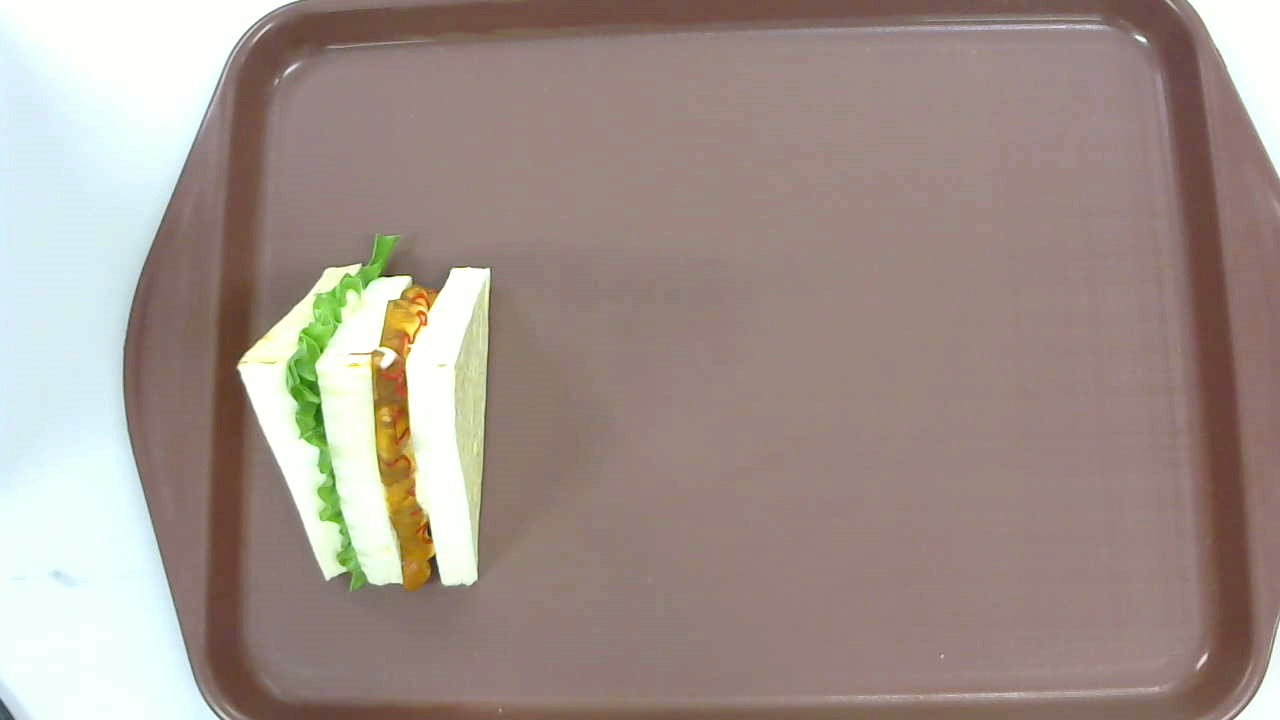sandwich: (234, 231, 490, 587)
